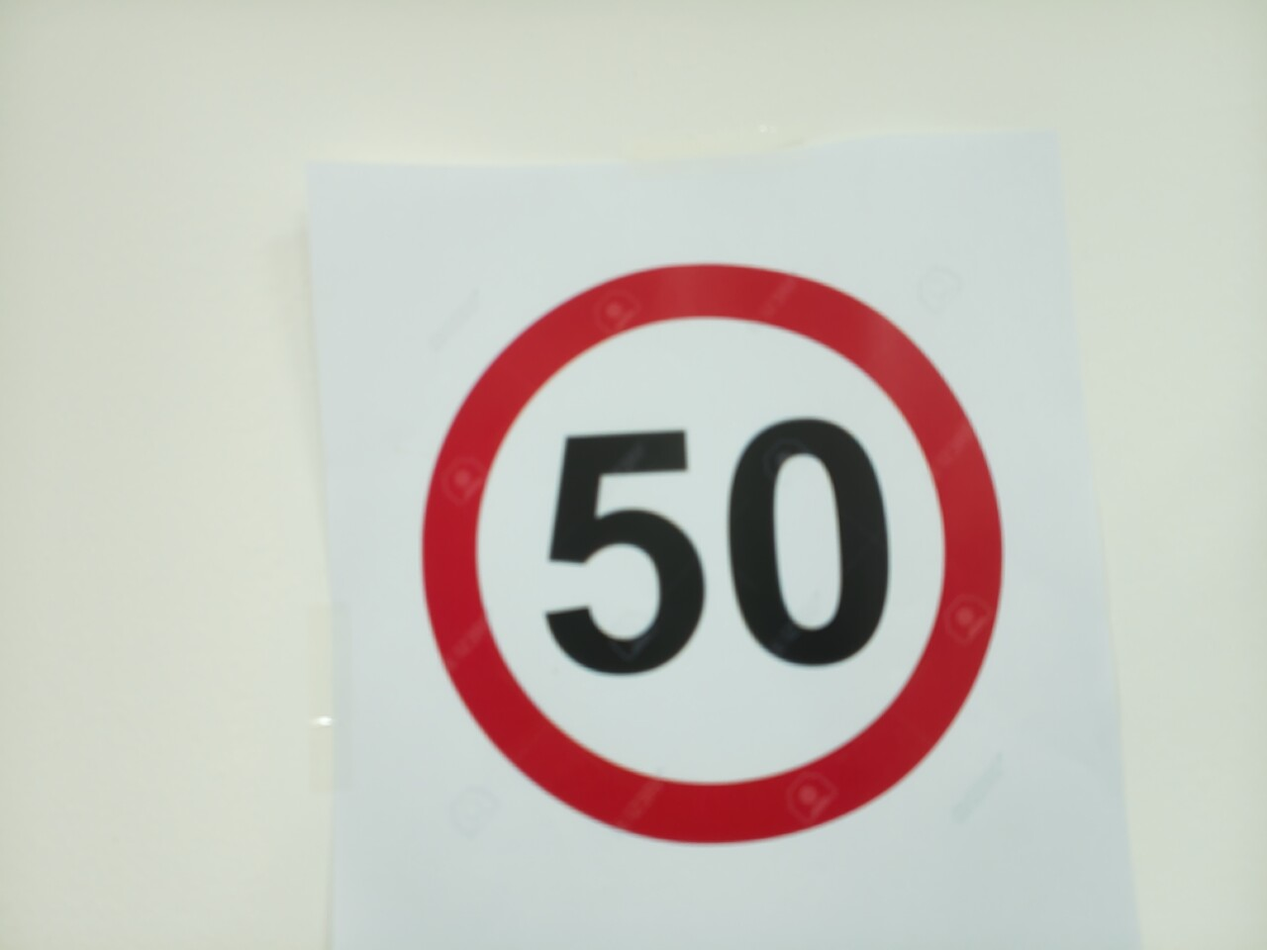speed_50: (407, 249, 1018, 858)
